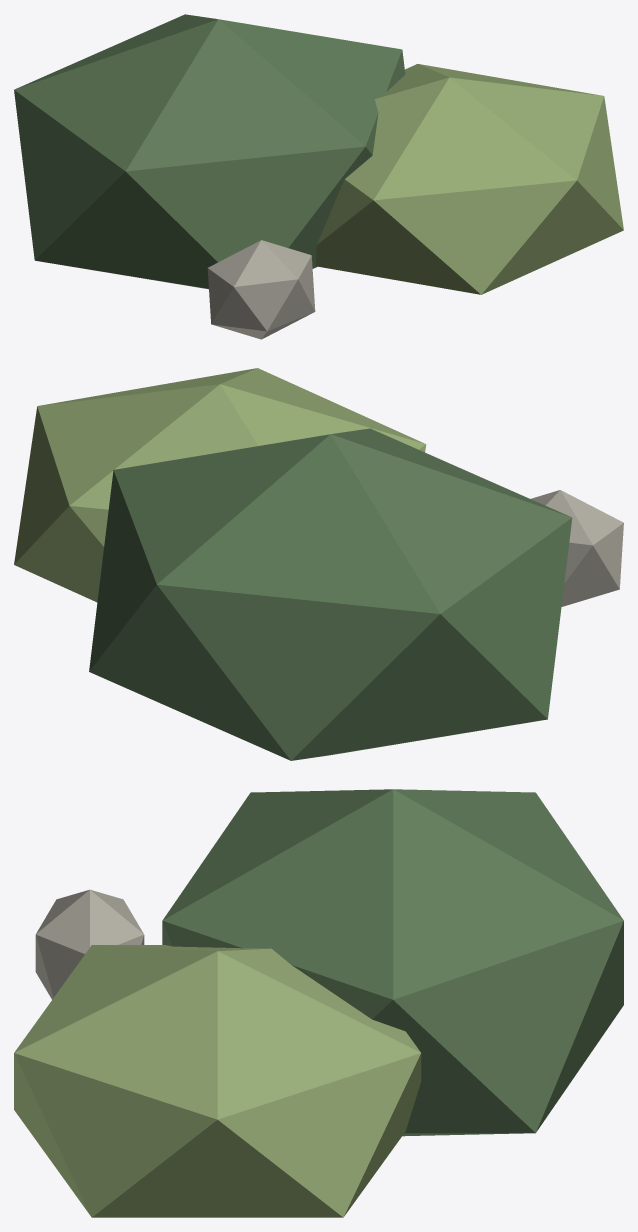
File: hill.glb
3 views of the same model, one above another, from view 1: azimuth 30°, elevation 25°; view 2: azimuth 150°, elevation 25°; view 3: azimuth 270°, elevation 25° (orthographic). The views are drawn at different scales.
Visible parts, largest first — view 1: Icosphere.034, Icosphere.035, Icosphere.036; view 2: Icosphere.034, Icosphere.035, Icosphere.036; view 3: Icosphere.034, Icosphere.035, Icosphere.036.
Part boxes in pixels (box(x1,y1,x2,y2)): Icosphere.034: box(14, 14, 405, 289); Icosphere.035: box(316, 64, 623, 294); Icosphere.036: box(207, 240, 315, 339); Icosphere.034: box(89, 428, 572, 760); Icosphere.035: box(14, 368, 426, 602); Icosphere.036: box(531, 490, 623, 606); Icosphere.034: box(162, 789, 623, 1136); Icosphere.035: box(14, 945, 421, 1217); Icosphere.036: box(35, 889, 144, 999).
Size of the model in its own units: 2.32 by 1.2 by 1.91.
